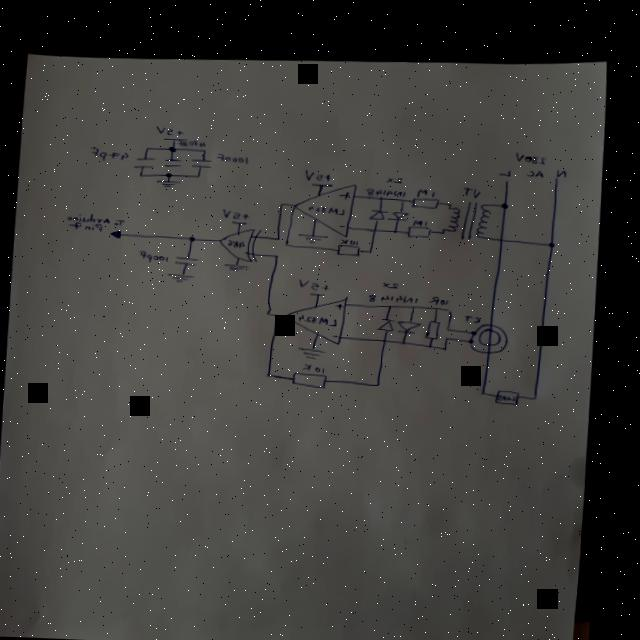capacitor: (176, 253, 204, 265), (134, 155, 159, 167), (192, 155, 215, 166), (164, 156, 185, 166)
crossover: (501, 234, 507, 238)
diode: (398, 316, 427, 331), (379, 314, 401, 328), (388, 207, 413, 219), (369, 205, 391, 218)
ground: (301, 344, 331, 359), (170, 269, 201, 282), (299, 230, 331, 242), (227, 260, 255, 270), (156, 176, 182, 185)
inductor: (470, 318, 516, 352)
junction: (501, 198, 511, 206), (190, 234, 200, 240), (168, 144, 178, 150), (268, 307, 276, 314), (275, 251, 284, 257), (449, 305, 458, 311), (404, 336, 411, 343), (550, 238, 558, 244), (269, 369, 277, 375), (536, 391, 544, 397), (276, 233, 284, 239), (138, 171, 147, 176), (394, 225, 401, 231), (485, 387, 492, 393), (449, 323, 456, 329), (201, 146, 210, 150), (446, 342, 453, 347), (475, 327, 483, 331), (167, 171, 175, 175), (370, 246, 376, 251), (280, 200, 287, 204), (373, 224, 380, 228), (447, 333, 454, 337), (280, 311, 285, 316), (380, 379, 386, 383), (146, 144, 152, 148), (197, 172, 203, 176), (286, 239, 292, 243), (437, 304, 443, 308), (414, 302, 420, 306), (473, 335, 477, 341), (382, 192, 386, 197), (387, 335, 391, 340), (432, 341, 437, 345), (392, 301, 396, 306), (402, 196, 407, 198), (443, 228, 448, 230), (451, 200, 455, 202)
resistor: (295, 369, 334, 387), (497, 385, 526, 402), (408, 222, 435, 235), (413, 193, 442, 205), (428, 317, 445, 337), (340, 241, 364, 254)
source: (313, 180, 334, 187), (313, 288, 330, 295), (163, 134, 191, 138), (233, 219, 251, 222)
terminal: (112, 227, 126, 237), (506, 176, 512, 182), (556, 172, 561, 176)
text: (67, 210, 129, 225), (89, 145, 132, 160), (299, 310, 342, 325), (372, 289, 423, 301), (154, 121, 187, 137), (71, 219, 115, 231), (515, 148, 550, 163), (368, 183, 409, 195), (139, 248, 174, 262), (300, 275, 334, 289), (215, 150, 252, 162), (310, 202, 349, 213), (305, 167, 334, 179), (175, 137, 210, 146), (224, 208, 252, 218), (464, 183, 485, 195), (432, 292, 454, 303), (306, 361, 332, 370), (417, 185, 439, 195), (526, 165, 547, 175), (387, 173, 406, 182), (230, 237, 249, 246), (468, 311, 485, 320), (413, 216, 431, 224), (385, 278, 403, 286), (343, 236, 362, 243), (557, 164, 570, 174), (340, 188, 354, 197), (502, 391, 520, 397), (500, 166, 513, 174), (336, 300, 348, 307), (336, 331, 344, 335), (342, 220, 348, 224)
transformer: (449, 198, 494, 237)
